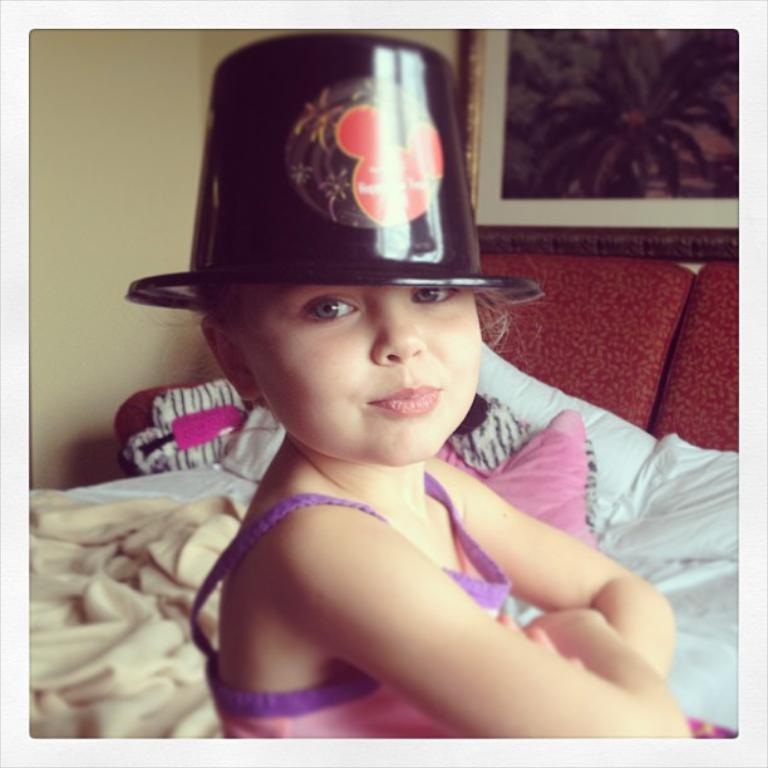Hat: (124, 33, 548, 308)
